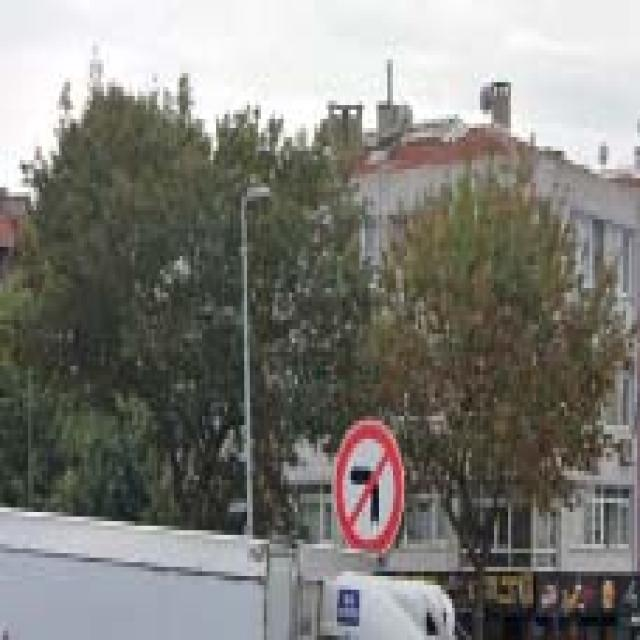soladonulmez: (334, 416, 404, 553)
